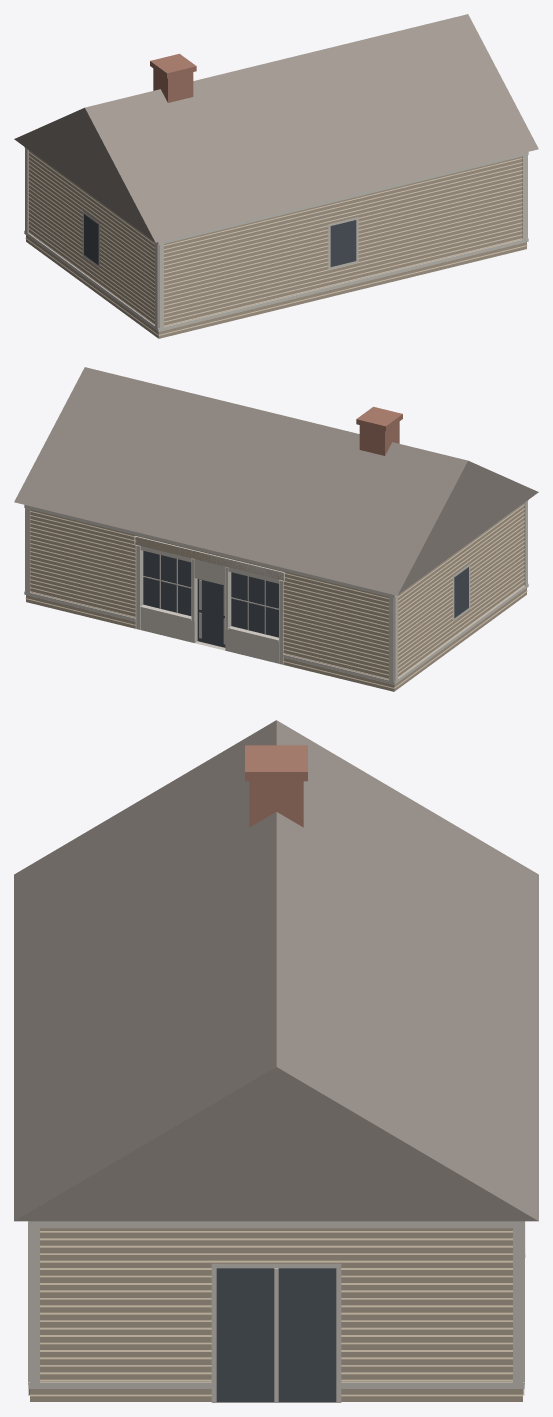
File: new_york_clothing_store__frame_1835.glb
3 renders of one model, top to bottom at view 1: azimuth 30°, elevation 25°; view 2: azimuth 150°, elevation 25°; view 3: azimuth 270°, elevation 25°, orthographic. The views are drawn at different scales.
Parts seen in each view (by area): view 1: new_york_clothing_store__frame_1835; view 2: new_york_clothing_store__frame_1835; view 3: new_york_clothing_store__frame_1835.
Boxes of the visible parts, x1,y1,x2,y2 form: new_york_clothing_store__frame_1835: (14, 14, 538, 338); new_york_clothing_store__frame_1835: (14, 367, 538, 691); new_york_clothing_store__frame_1835: (14, 720, 538, 1402).
Size of the model in its own units: 12.69 by 6.55 by 8.12.
